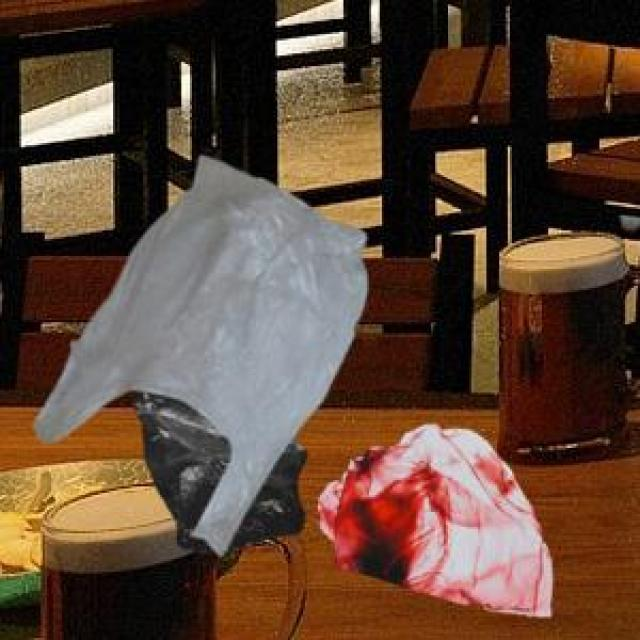waste: (36, 156, 368, 556), (334, 426, 551, 617)
